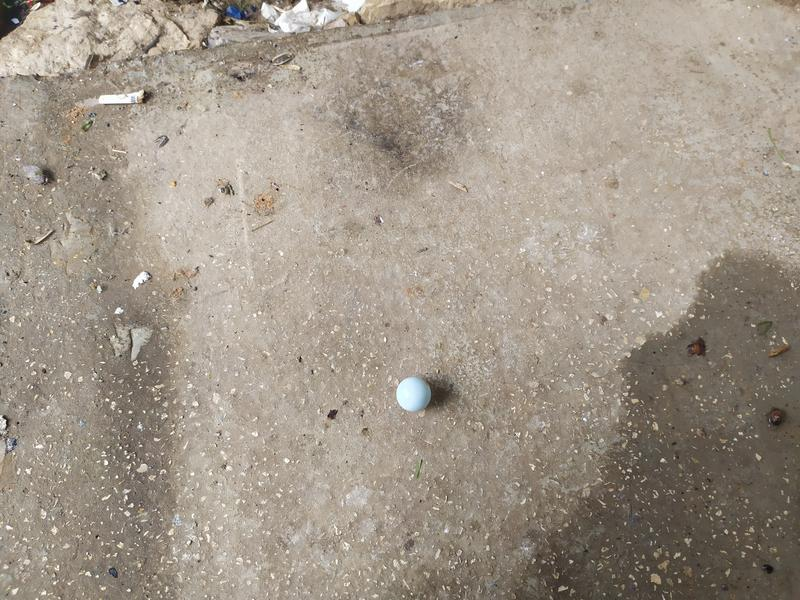Warning: (394, 374, 434, 414)
